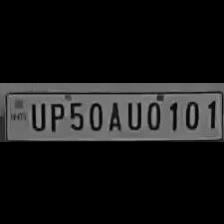0: (143, 97, 163, 130), (85, 98, 105, 130), (180, 97, 200, 129)
1: (202, 96, 220, 130), (163, 97, 179, 131)
5: (65, 98, 84, 130)
A: (104, 97, 124, 131)
P: (46, 99, 64, 131)
U: (122, 97, 142, 129), (27, 99, 46, 131)
